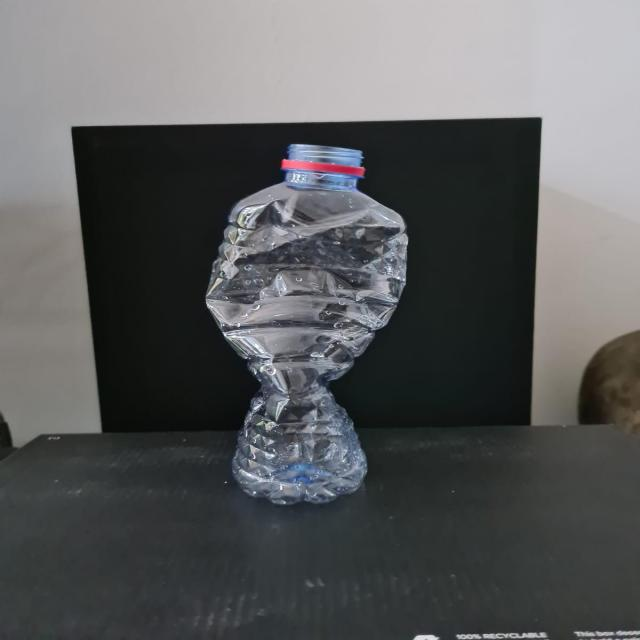bottle: (195, 127, 432, 510)
